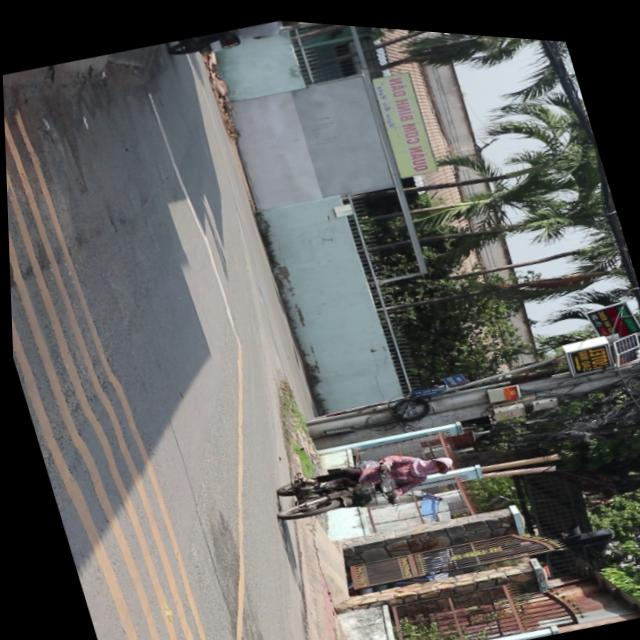licenseplate: (260, 424, 461, 534)
motorcyclist: (411, 445, 454, 476)
